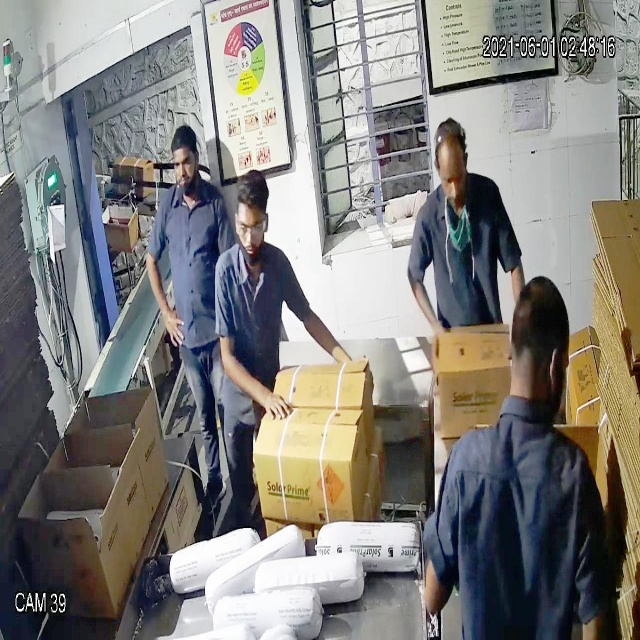Gafas: (229, 211, 276, 245)
Sin_gafas: (433, 159, 472, 193), (165, 147, 200, 176)
